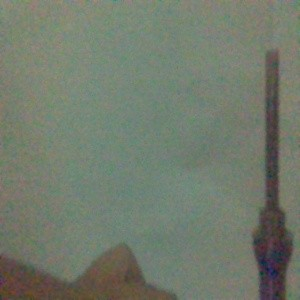obeng: (251, 49, 295, 300)
